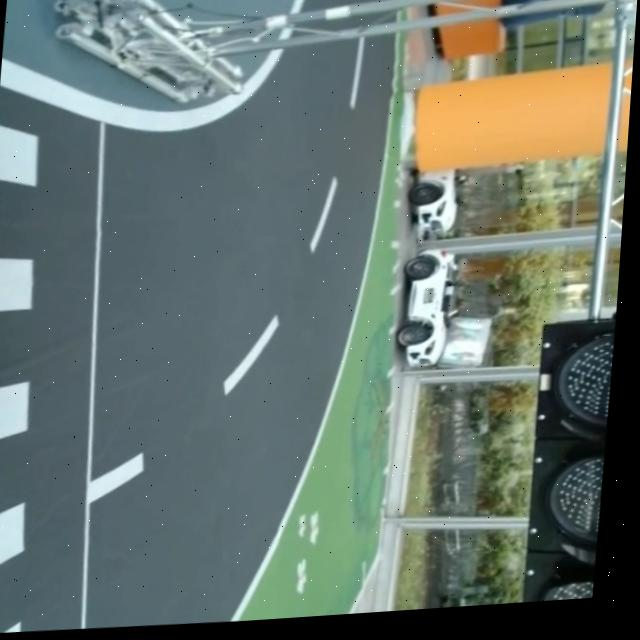traffic-light: (514, 307, 616, 603)
